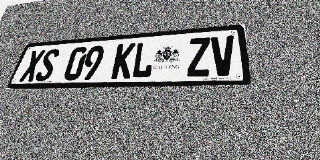0: (62, 46, 89, 80)
9: (79, 45, 106, 80)
K: (110, 43, 136, 79)
L: (130, 41, 155, 78)
S: (34, 48, 61, 81)
V: (211, 35, 236, 76)
X: (19, 50, 46, 82)
Z: (187, 37, 210, 77)
